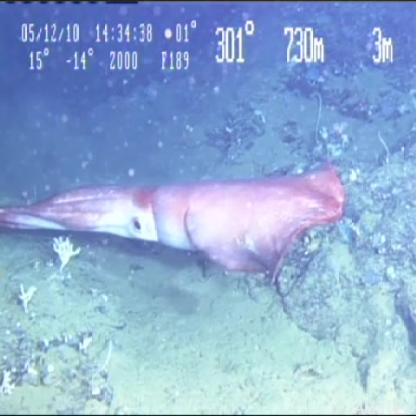Bio: (1, 160, 350, 284), (49, 234, 84, 276)
